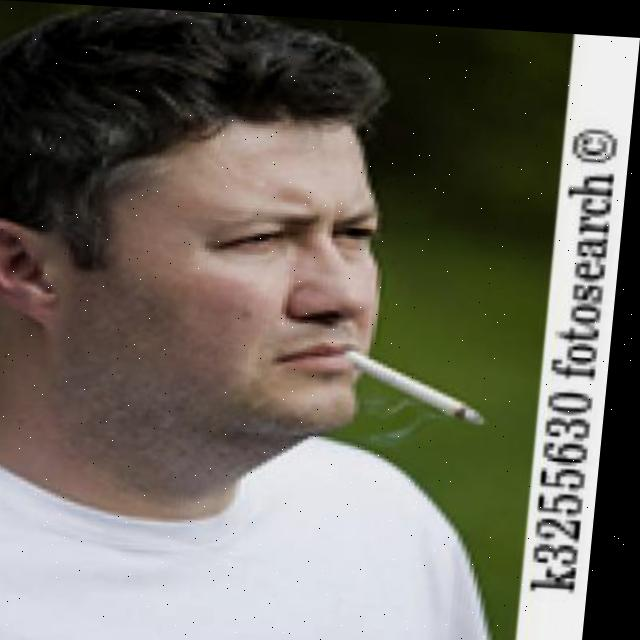cigarette: (341, 343, 500, 422)
